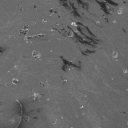corrosion: (31, 49, 41, 60), (31, 91, 41, 102), (65, 30, 75, 39), (19, 28, 29, 37), (11, 77, 19, 86), (111, 50, 119, 59), (116, 6, 124, 15), (41, 18, 48, 25), (70, 21, 78, 27), (122, 68, 128, 74), (95, 19, 101, 25), (111, 18, 117, 24)
